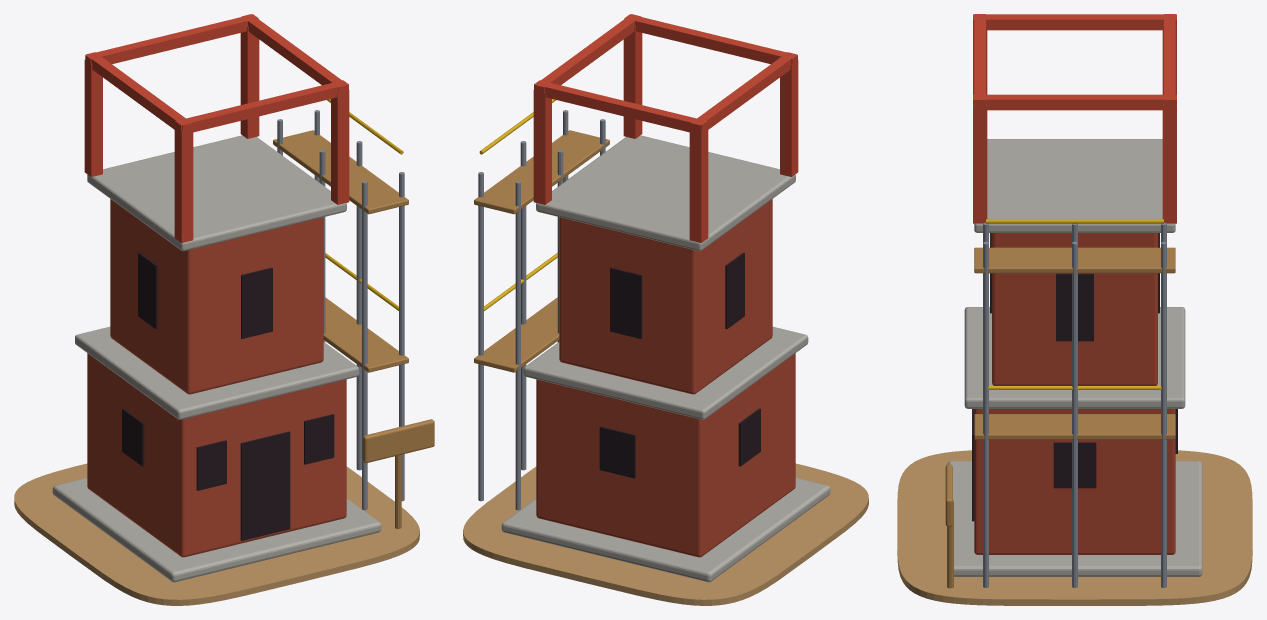
Rendered from clock-tower-lod1-2.af7119a0.glb.
3 renders of one model, left to right at view 1: azimuth 30°, elevation 25°; view 2: azimuth 150°, elevation 25°; view 3: azimuth 270°, elevation 25°, orthographic. The views are drawn at different scales.
Parts seen in each view (by area): view 1: ClockTower_Stage2__T_vcol; view 2: ClockTower_Stage2__T_vcol; view 3: ClockTower_Stage2__T_vcol.
Part boxes in pixels (x1,y1,x2,y2): ClockTower_Stage2__T_vcol: [14, 14, 434, 605]; ClockTower_Stage2__T_vcol: [463, 14, 868, 605]; ClockTower_Stage2__T_vcol: [897, 14, 1252, 605].
Bounding box in the file's own units: 4.98 × 7.06 × 4.8.
